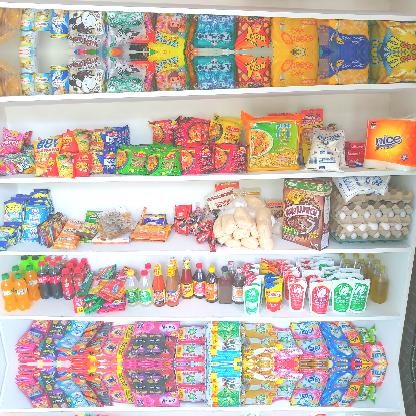Koko-Krunch: (281, 176, 333, 252)
